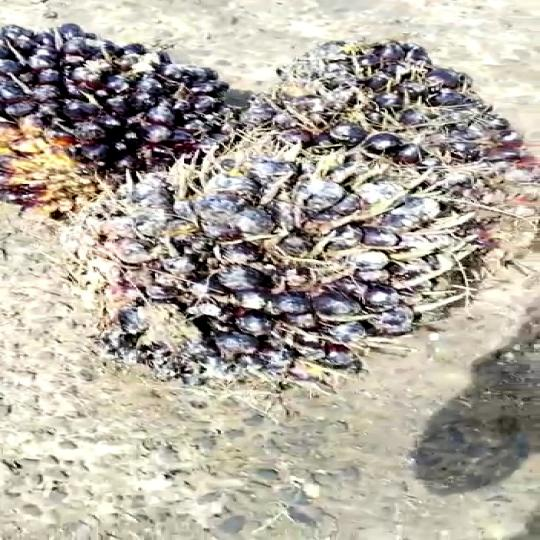mentah: (93, 153, 480, 396), (0, 19, 253, 194), (259, 43, 518, 196)
